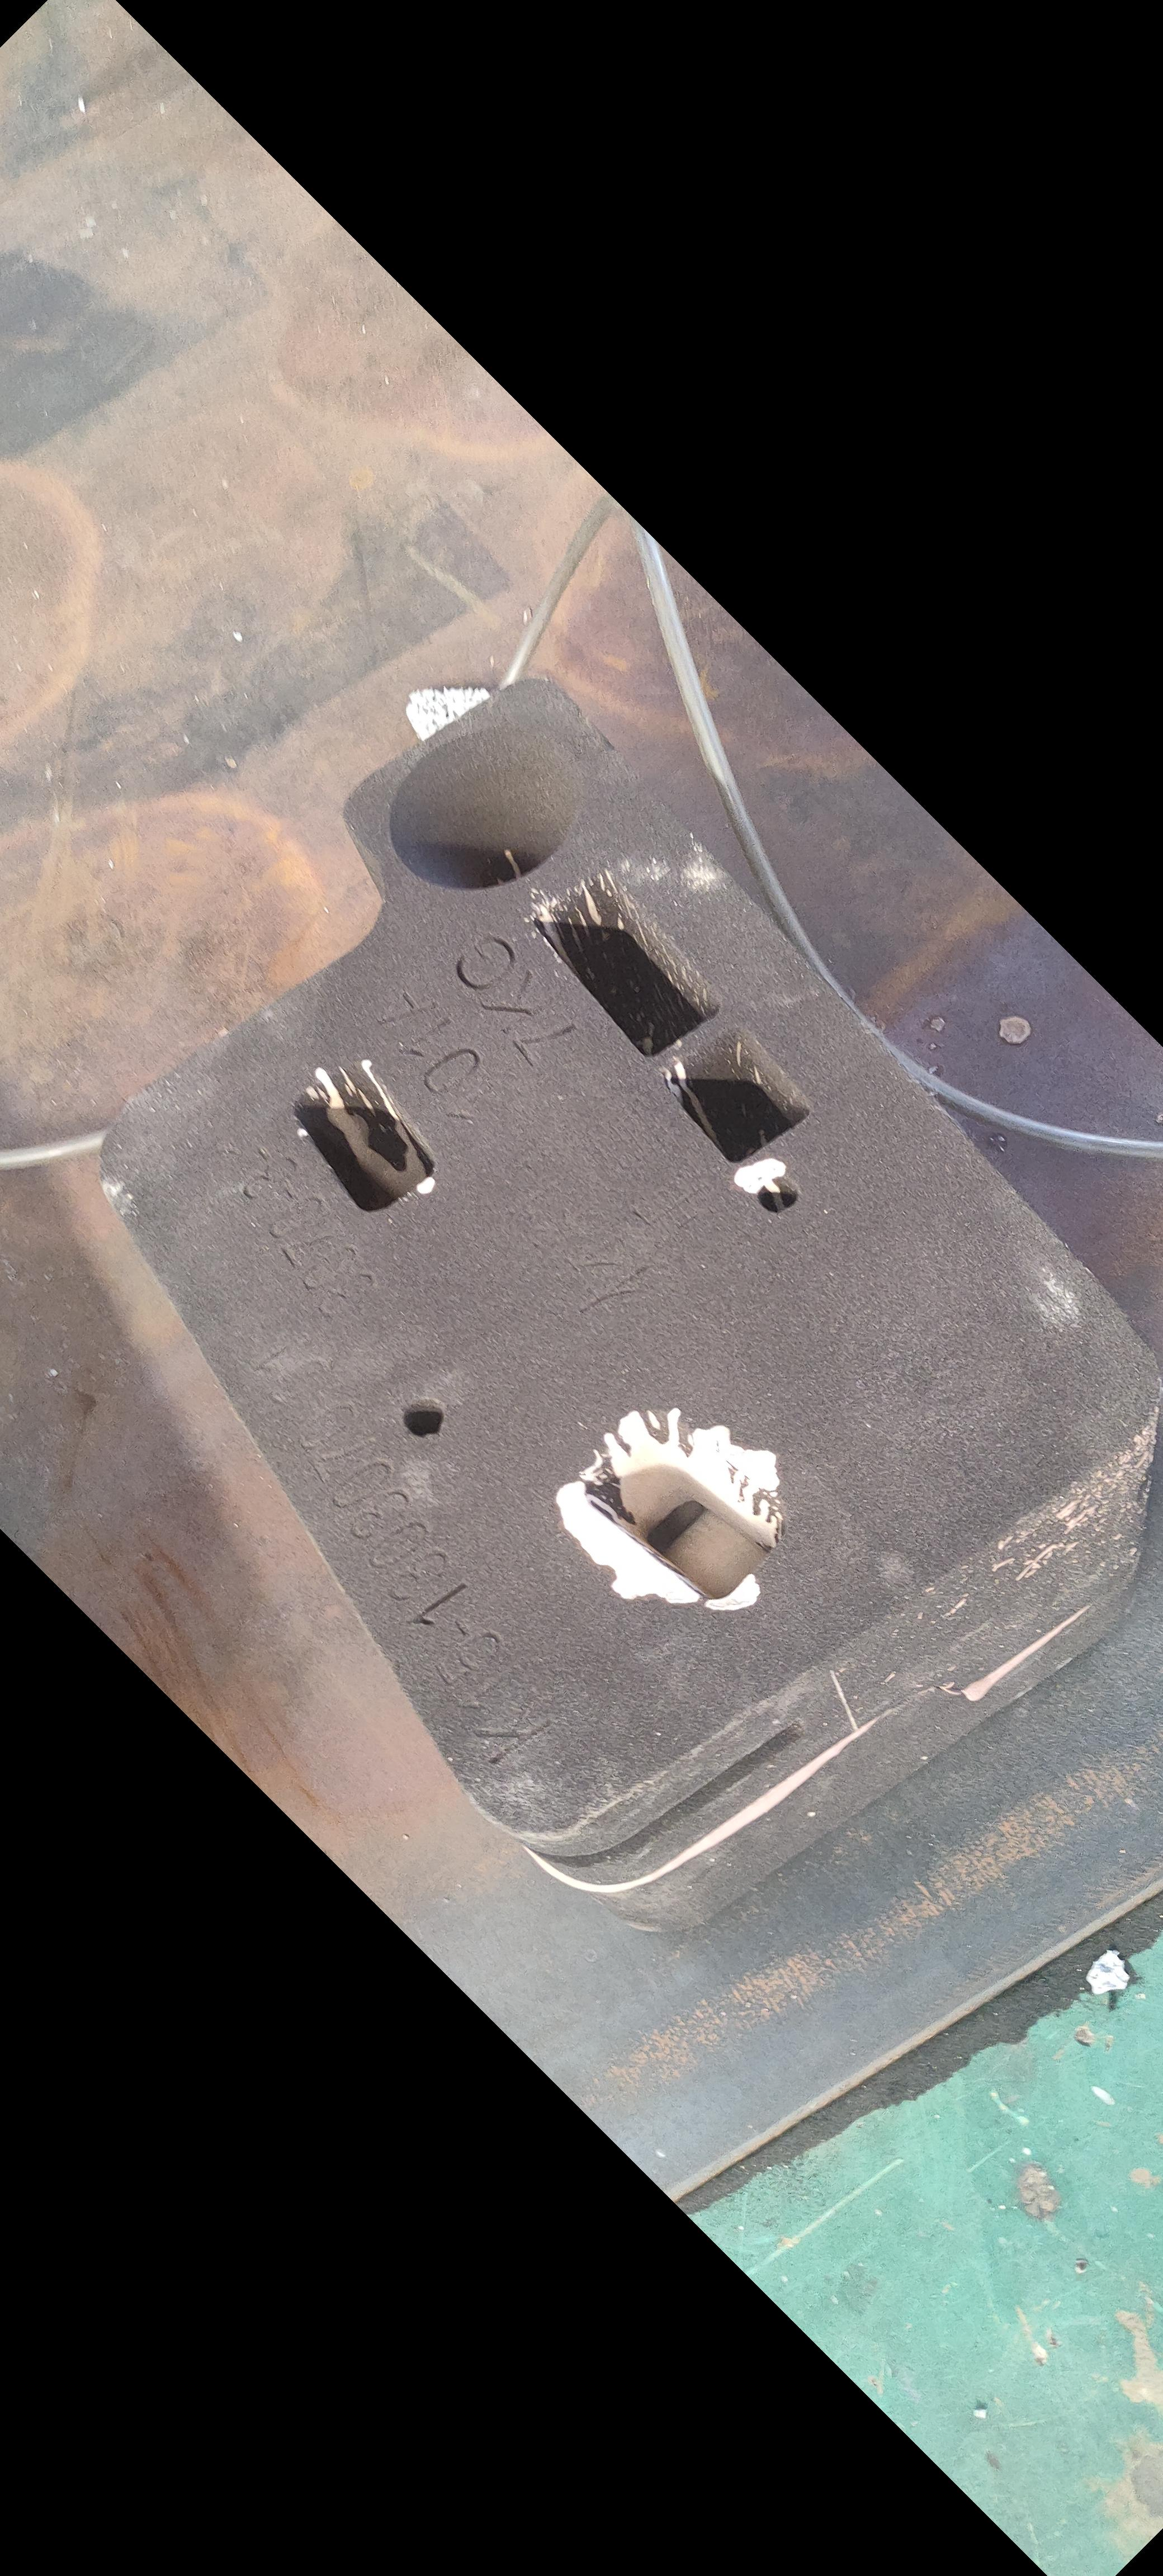pouring hole: (391, 721, 580, 889)
